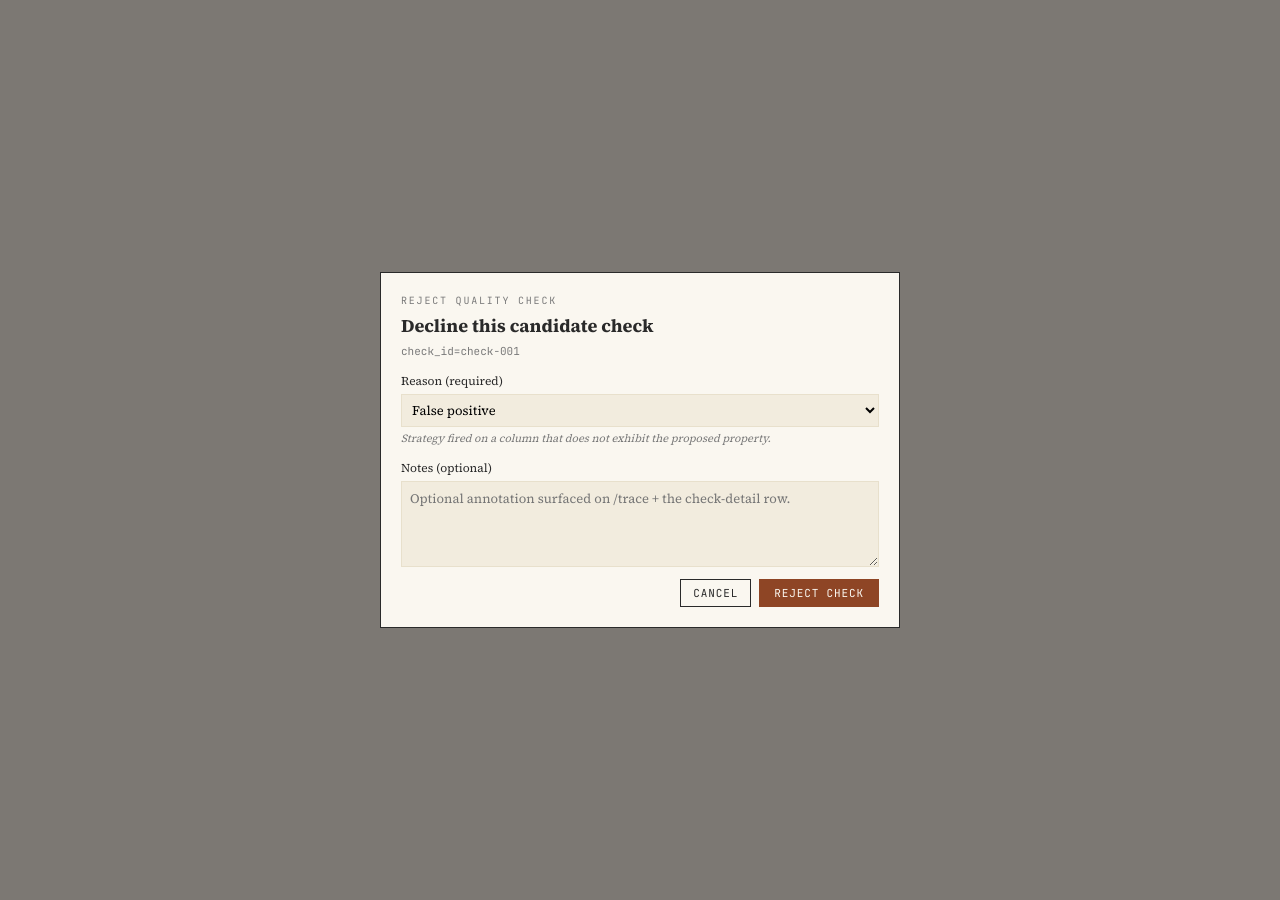
Test case: QualityRejectionModal › surfaces an error banner when the action returns ok=false
This screenshot has width=1280, height=900.
Click the button with test id "quality-reject-submit" at (819, 593), box [759,579,879,607]
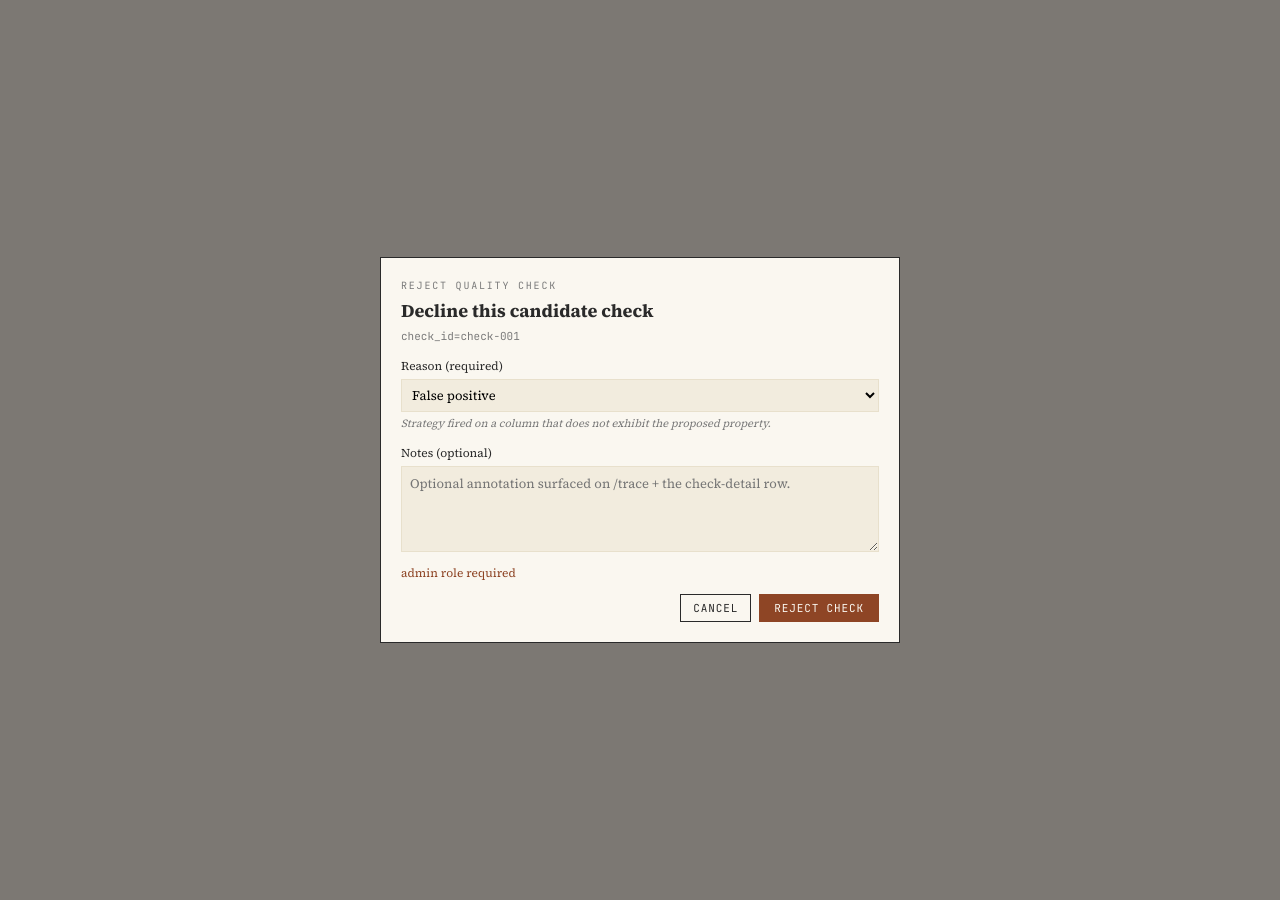
Now the message with test id "quality-reject-error" reads "admin role required", box [401,565,516,581]
